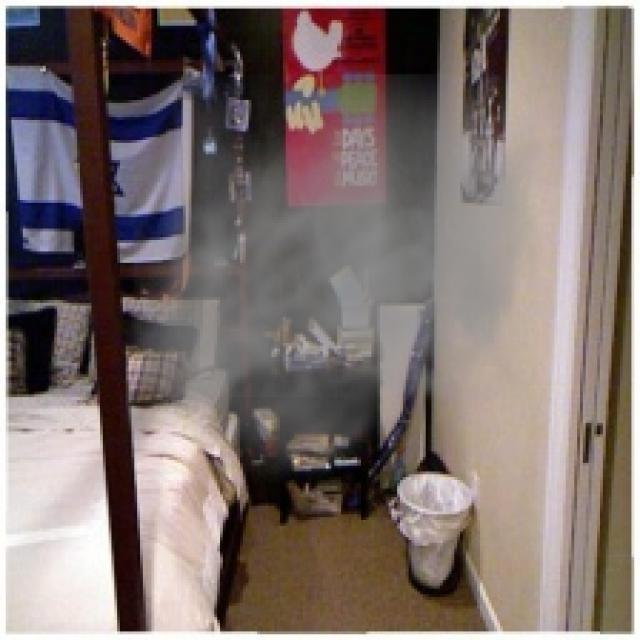Smoke: (126, 74, 543, 492)
